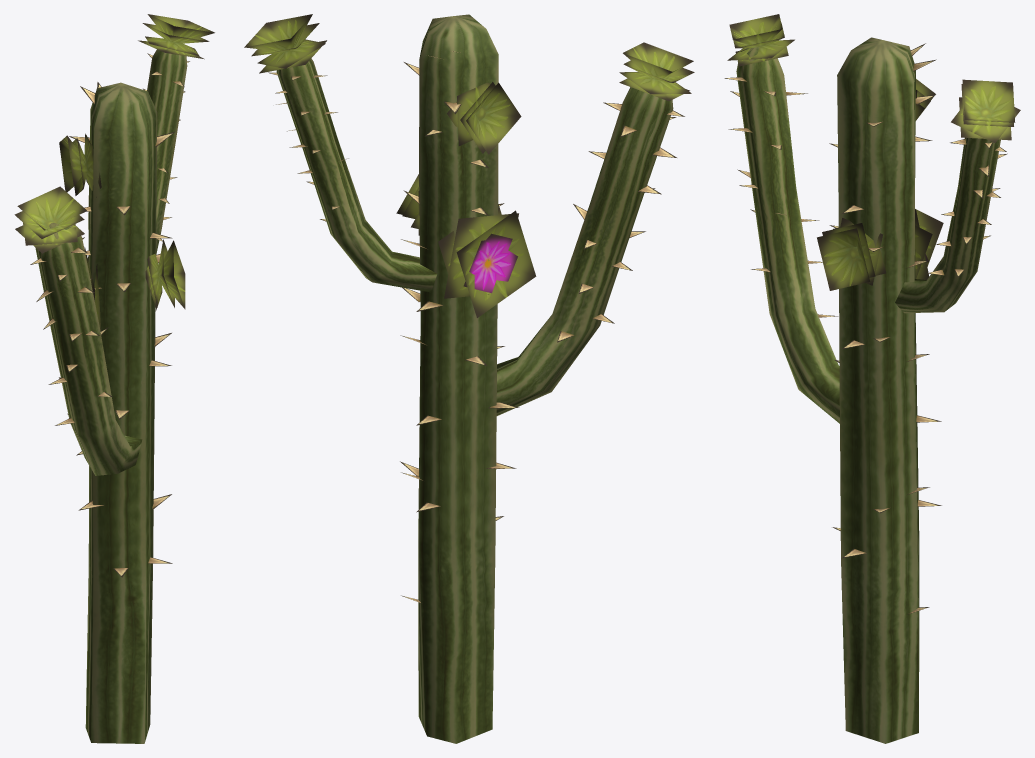
The model's file is cactus_05.FBX.
3 renders of one model, left to right at view 1: azimuth 30°, elevation 25°; view 2: azimuth 150°, elevation 25°; view 3: azimuth 270°, elevation 25°, orthographic. The views are drawn at different scales.
Visible parts, largest first — view 1: cactus_05; view 2: cactus_05; view 3: cactus_05.
Part boxes in pixels (bbox=[...]): cactus_05: bbox=[14, 14, 214, 743]; cactus_05: bbox=[244, 14, 694, 743]; cactus_05: bbox=[724, 14, 1020, 743].
Size of the model in its own units: 35.34 by 76.61 by 29.63.
